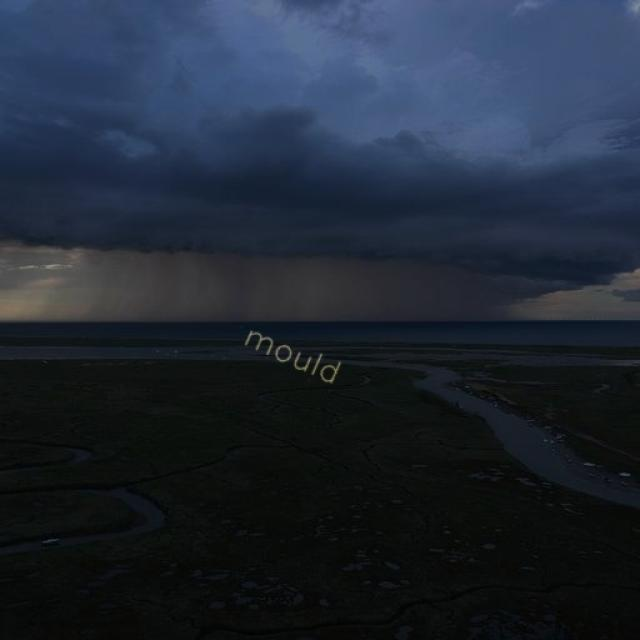watermark: (233, 318, 357, 390)
